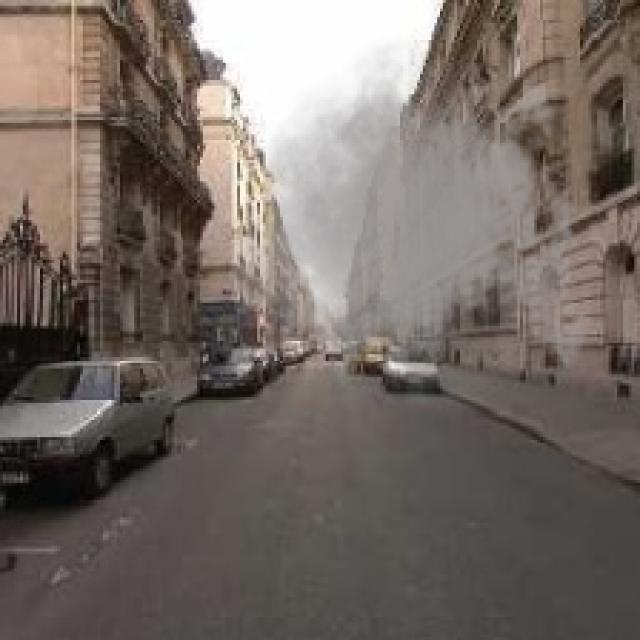Smoke: (223, 20, 600, 429)
